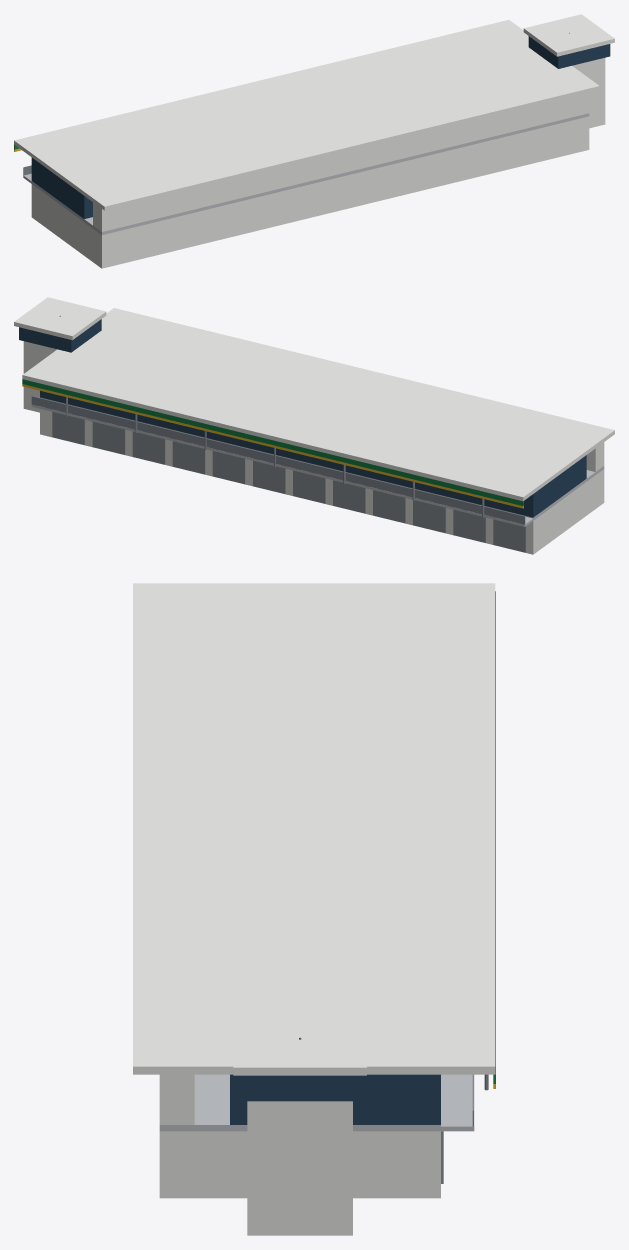
The model's file is kartodromo.glb.
The picture shows the model from 3 angles, top to bottom: view 1: azimuth 30°, elevation 25°; view 2: azimuth 150°, elevation 25°; view 3: azimuth 270°, elevation 25°; orthographic projection. The views are drawn at different scales.
Parts seen in each view (by area): view 1: kartodromo; view 2: kartodromo; view 3: kartodromo.
Boxes of the visible parts, left/top/right/bottom form: kartodromo: left=14, top=14, right=614, bottom=268; kartodromo: left=14, top=297, right=614, bottom=554; kartodromo: left=133, top=583, right=495, bottom=1235.
Bounding box in the file's own units: 70.3 × 11 × 20.62.
